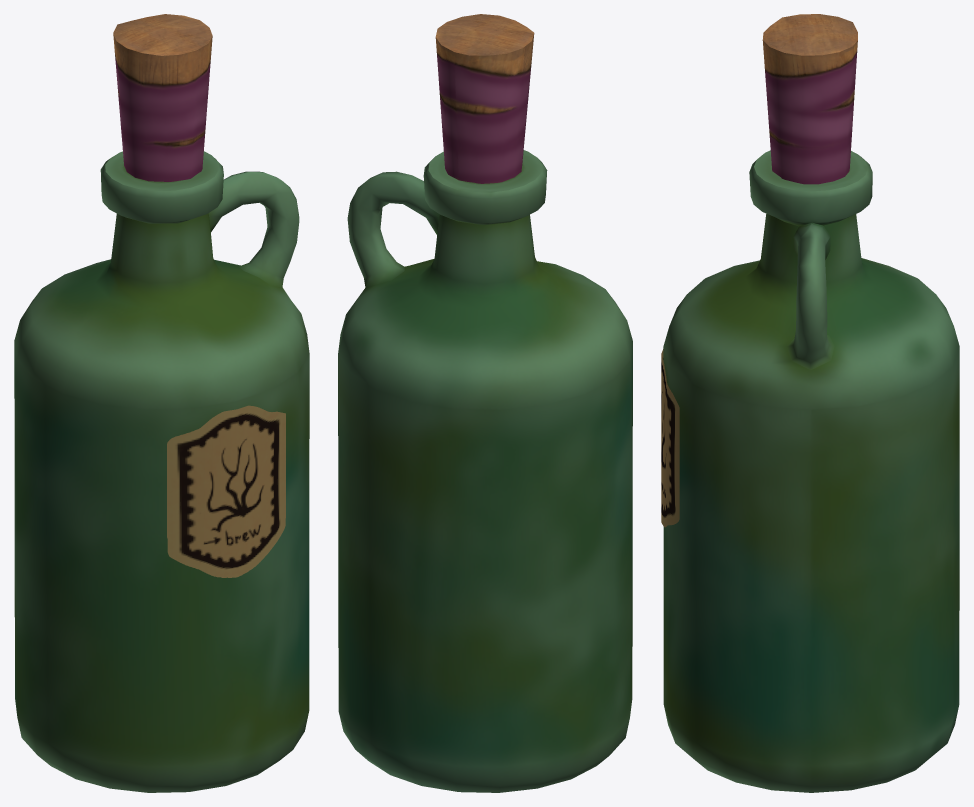
The model's file is SM_Potion_Props_Bottle_Big_05.fbx.
The picture shows the model from 3 angles, left to right: view 1: azimuth 30°, elevation 25°; view 2: azimuth 150°, elevation 25°; view 3: azimuth 270°, elevation 25°; orthographic projection.
Visible parts, largest first — view 1: SM_Potion_Props_Bottle_Big_05_LOD0; view 2: SM_Potion_Props_Bottle_Big_05_LOD0; view 3: SM_Potion_Props_Bottle_Big_05_LOD0.
Boxes of the visible parts, box(x1,y1,x2,y2) form: SM_Potion_Props_Bottle_Big_05_LOD0: box(14, 14, 309, 792); SM_Potion_Props_Bottle_Big_05_LOD0: box(338, 14, 632, 792); SM_Potion_Props_Bottle_Big_05_LOD0: box(661, 14, 959, 792).
Size of what is drawn, in the model's own units: 17.71 by 45.34 by 17.3.
